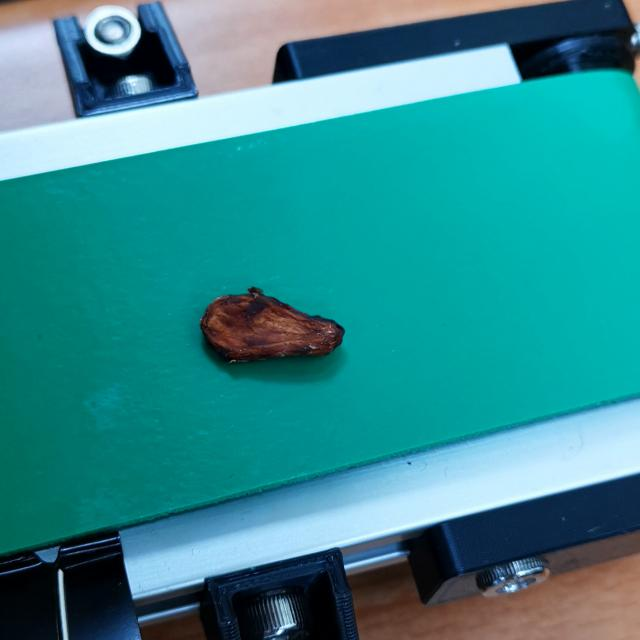Flat_cocoabeans: (168, 252, 388, 430)
